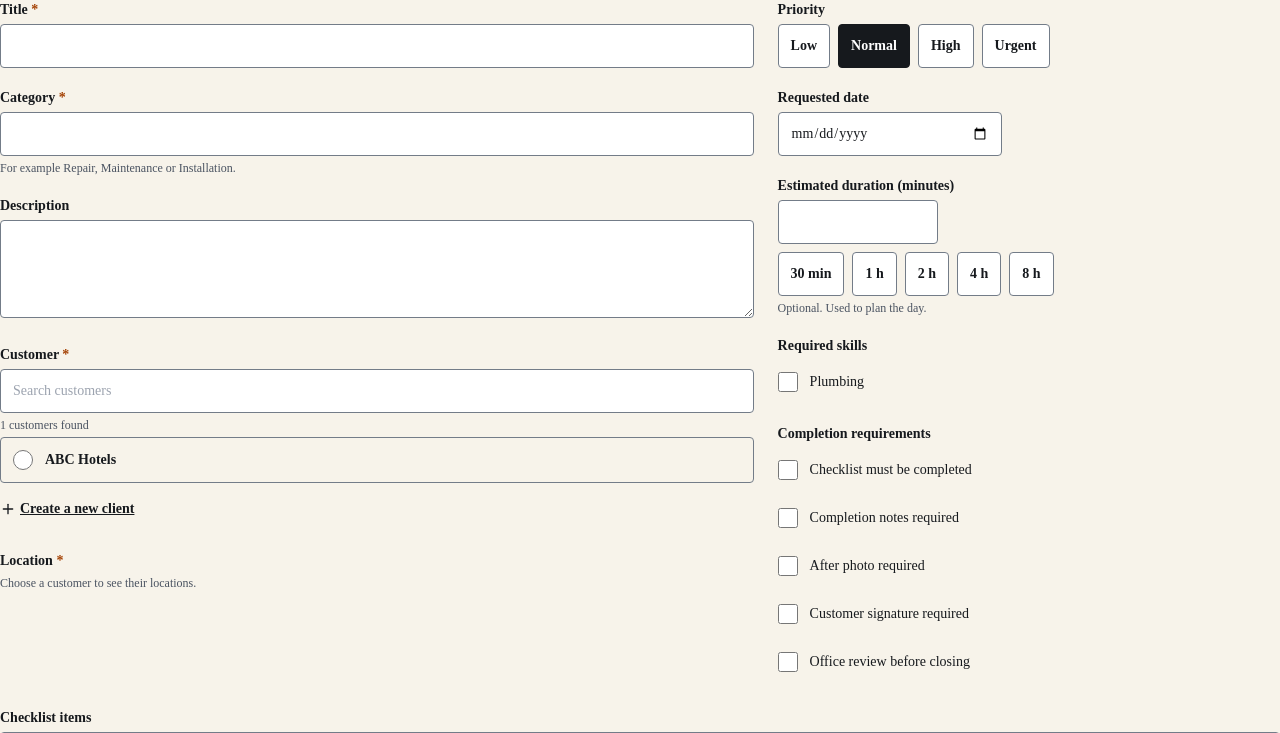
Test case: create the client from Create Job (4e742976) › a client the API says may already exist is offered, with masked contact details, instead of a second one
Expected: the field labelled "Category *" is shown, [0,112,754,156]
Type "abc hotels" into the search field labelled "Search customers" at (377, 391), box [0,369,754,413]
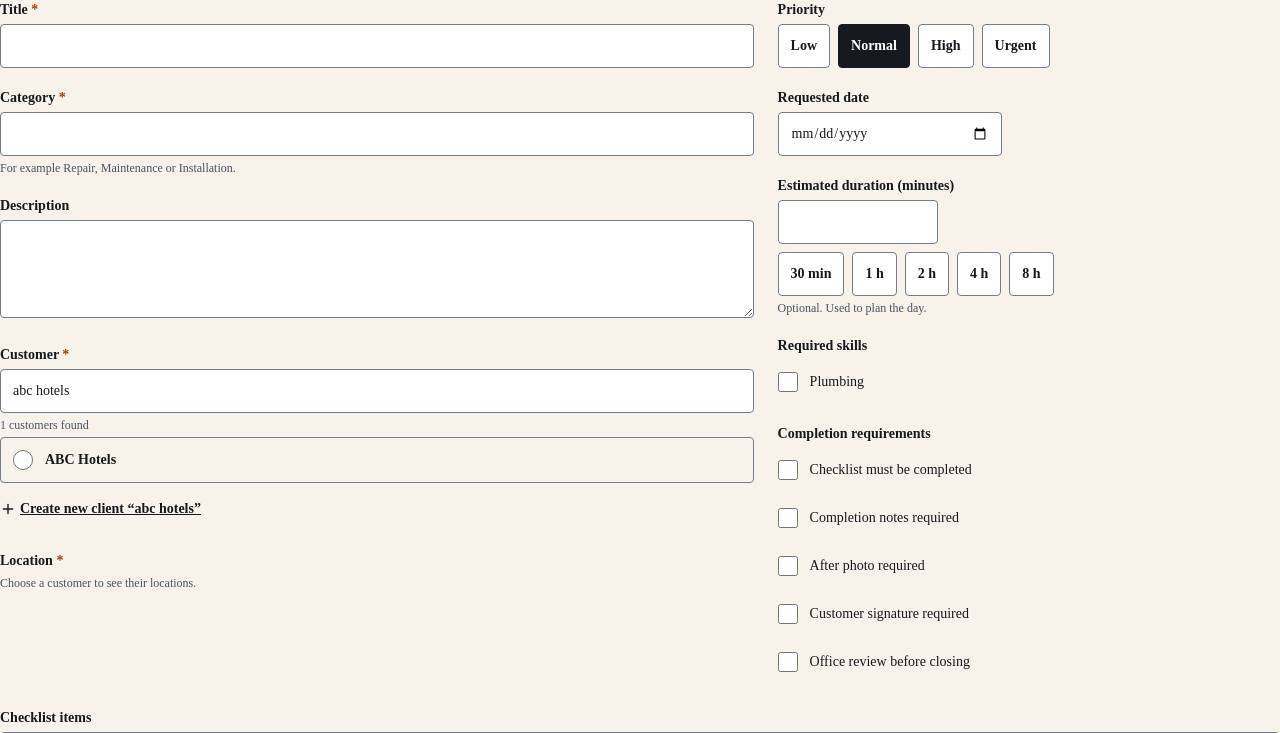
Click the button "Create new client “abc hotels”" at (100, 509), box [0,487,201,531]
(page scrolled)
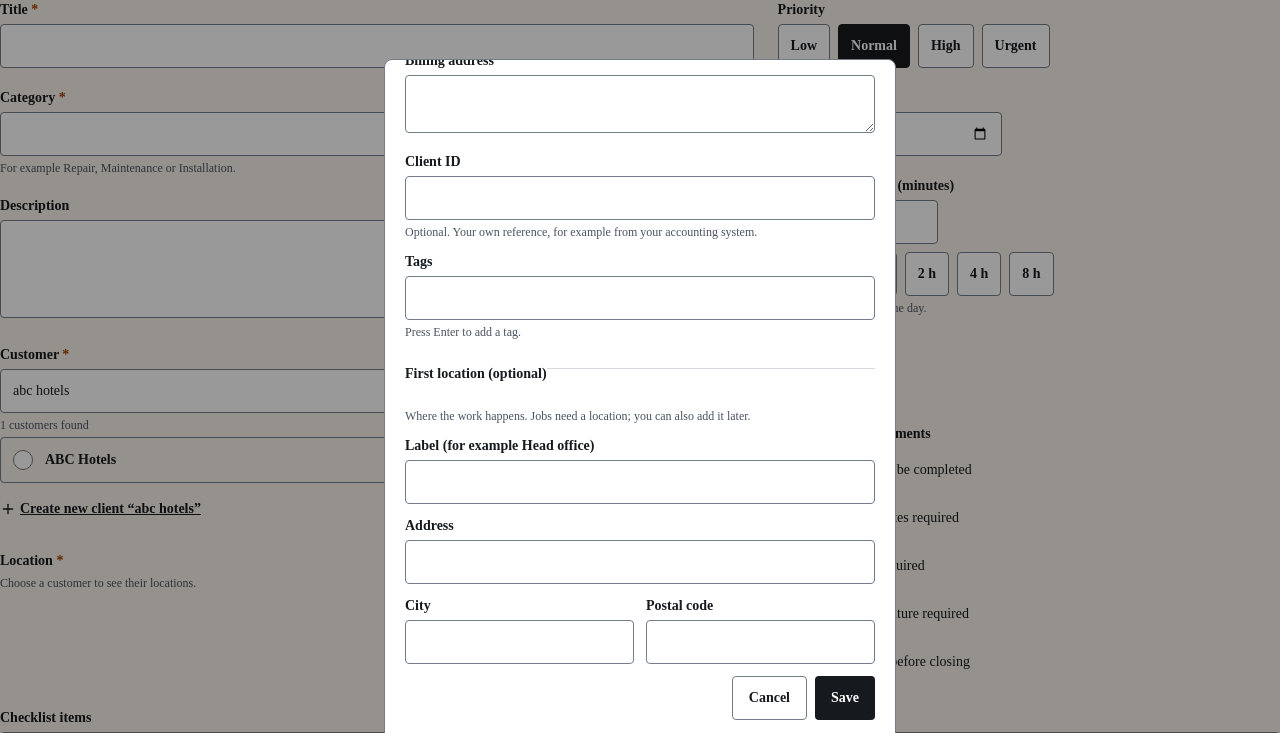
Click the button "Save" at (845, 698), box [815,676,875,720]
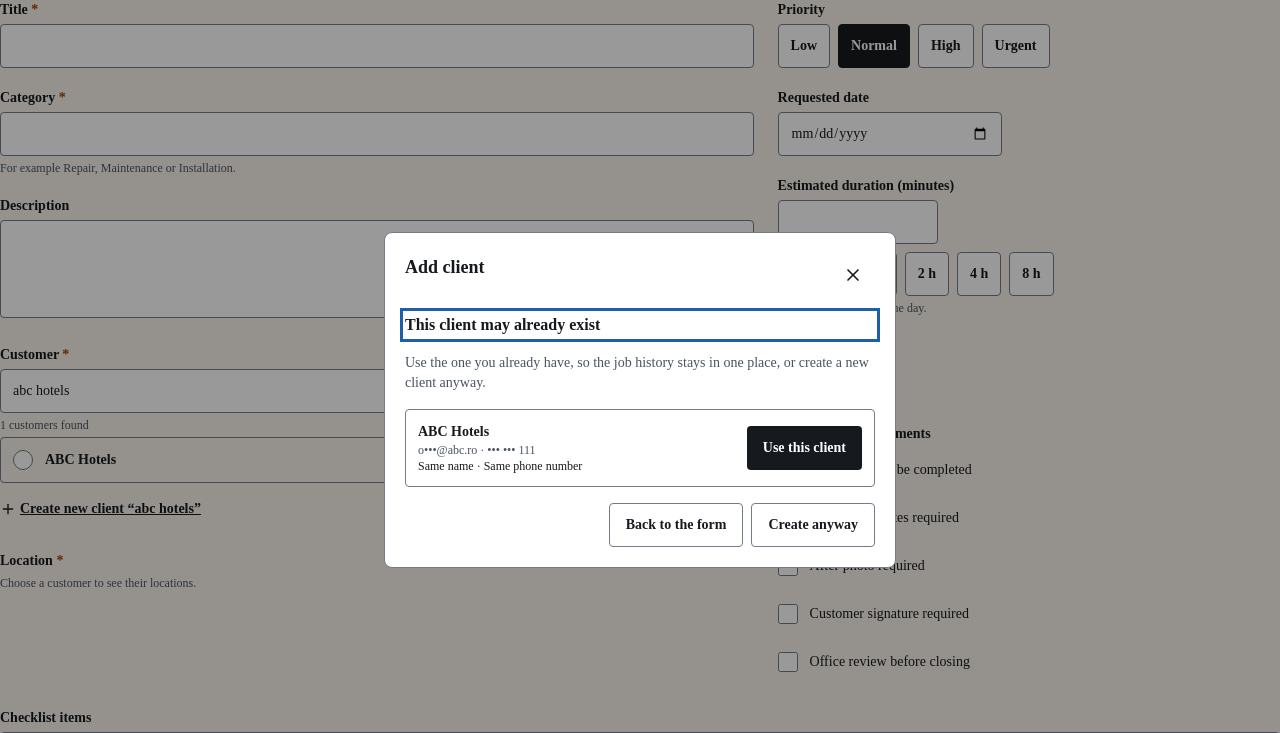
Result: the heading "This client may already exist" is shown at [405,313,875,337]
Result: the text "o•••@abc.ro · ••• ••• 111" is shown at [418,443,536,457]
Result: the text "Same name · Same phone number" is shown at [418,458,582,474]
Click the button "Use this client" at (804, 448), box [747,426,862,470]
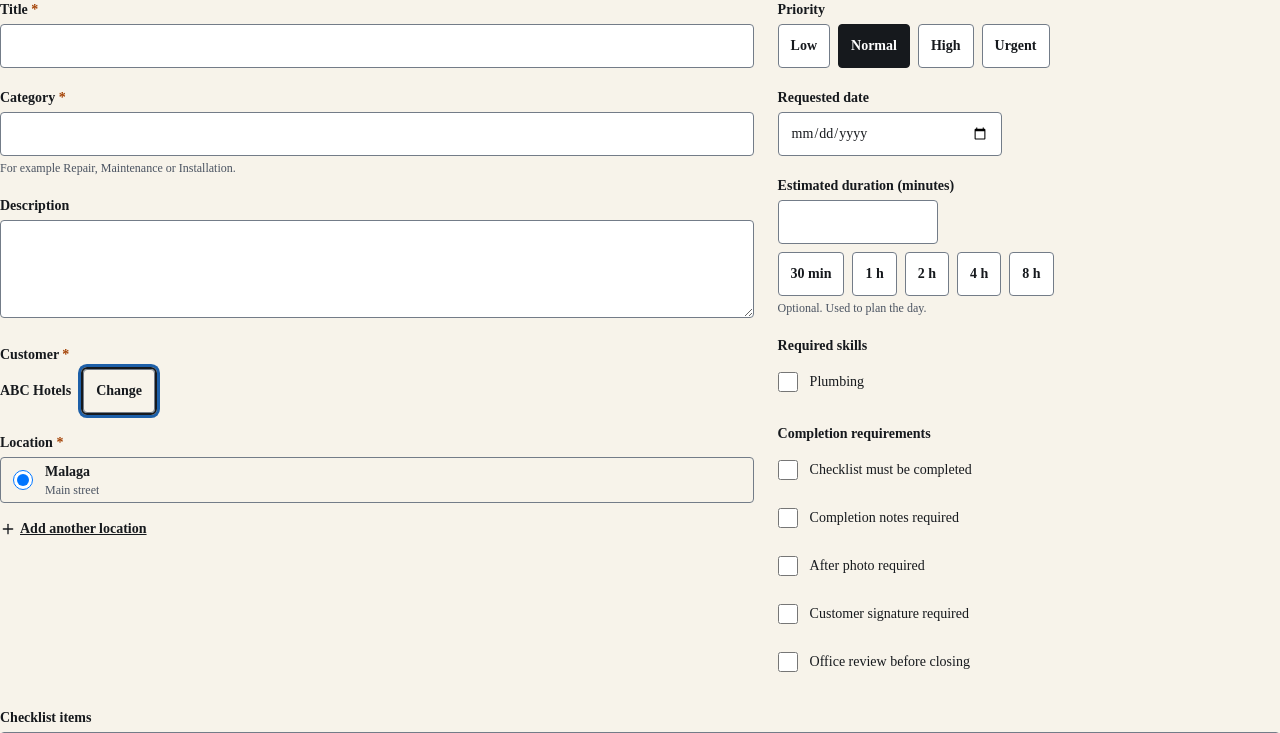
Expected: the text "ABC Hotels" is shown, [0,381,71,401]
Result: the dialog is gone
